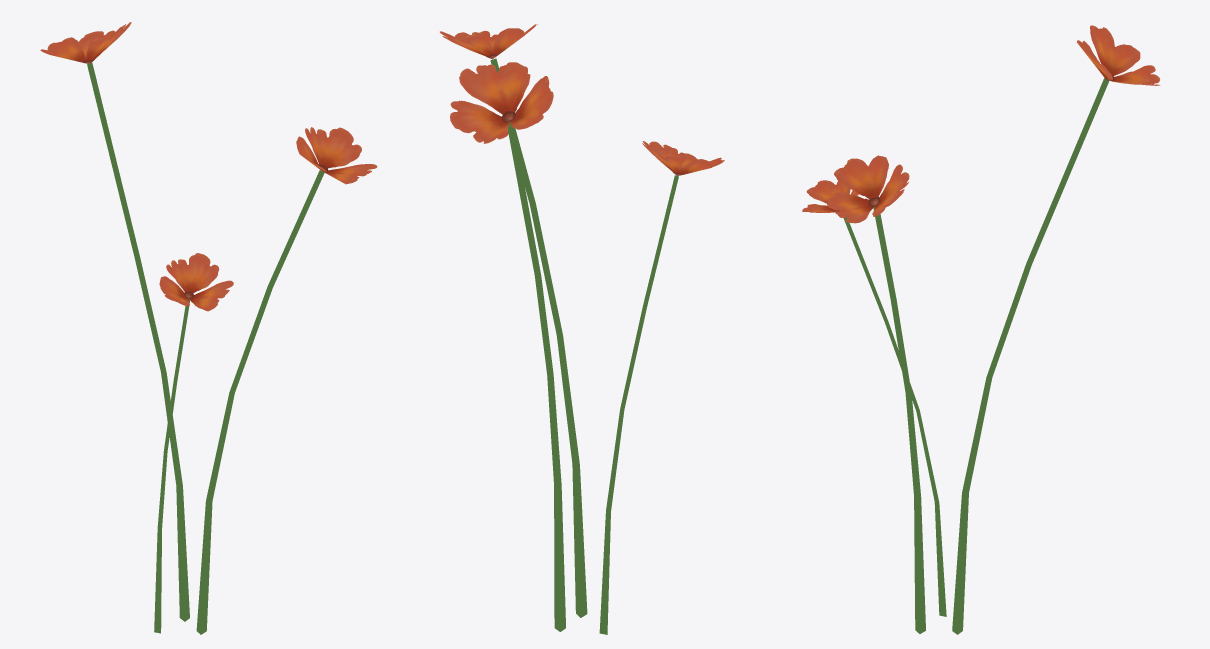
Rendered from MEADOW_SM_Flower_08_01.gltf.
3 renders of one model, left to right at view 1: azimuth 30°, elevation 25°; view 2: azimuth 150°, elevation 25°; view 3: azimuth 270°, elevation 25°, orthographic. The views are drawn at different scales.
Parts seen in each view (by area): view 1: SM_Flower_08_01_LOD0; view 2: SM_Flower_08_01_LOD0; view 3: SM_Flower_08_01_LOD0.
Boxes of the visible parts, x1=… form: SM_Flower_08_01_LOD0: x1=40, y1=22, x2=377, y2=634; SM_Flower_08_01_LOD0: x1=440, y1=24, x2=724, y2=634; SM_Flower_08_01_LOD0: x1=802, y1=25, x2=1160, y2=634.
Bounding box in the file's own units: 0.2866 × 0.585 × 0.3704.
1 material, 1 textured.
